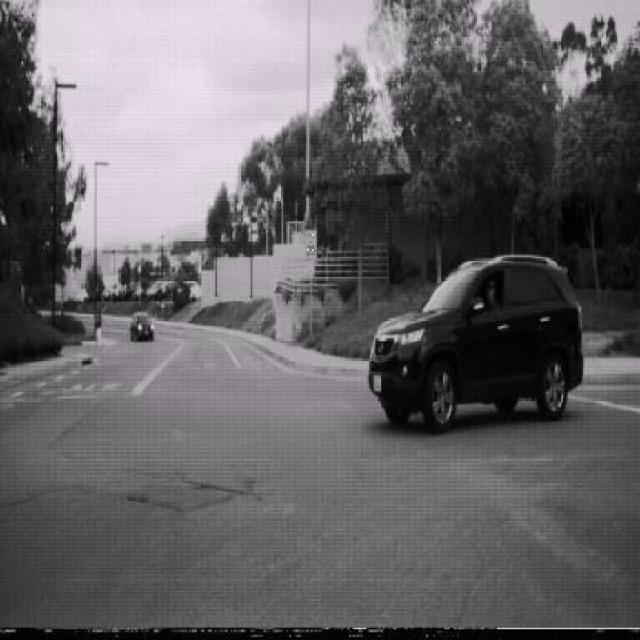speedLimit25: (303, 228, 317, 260)
